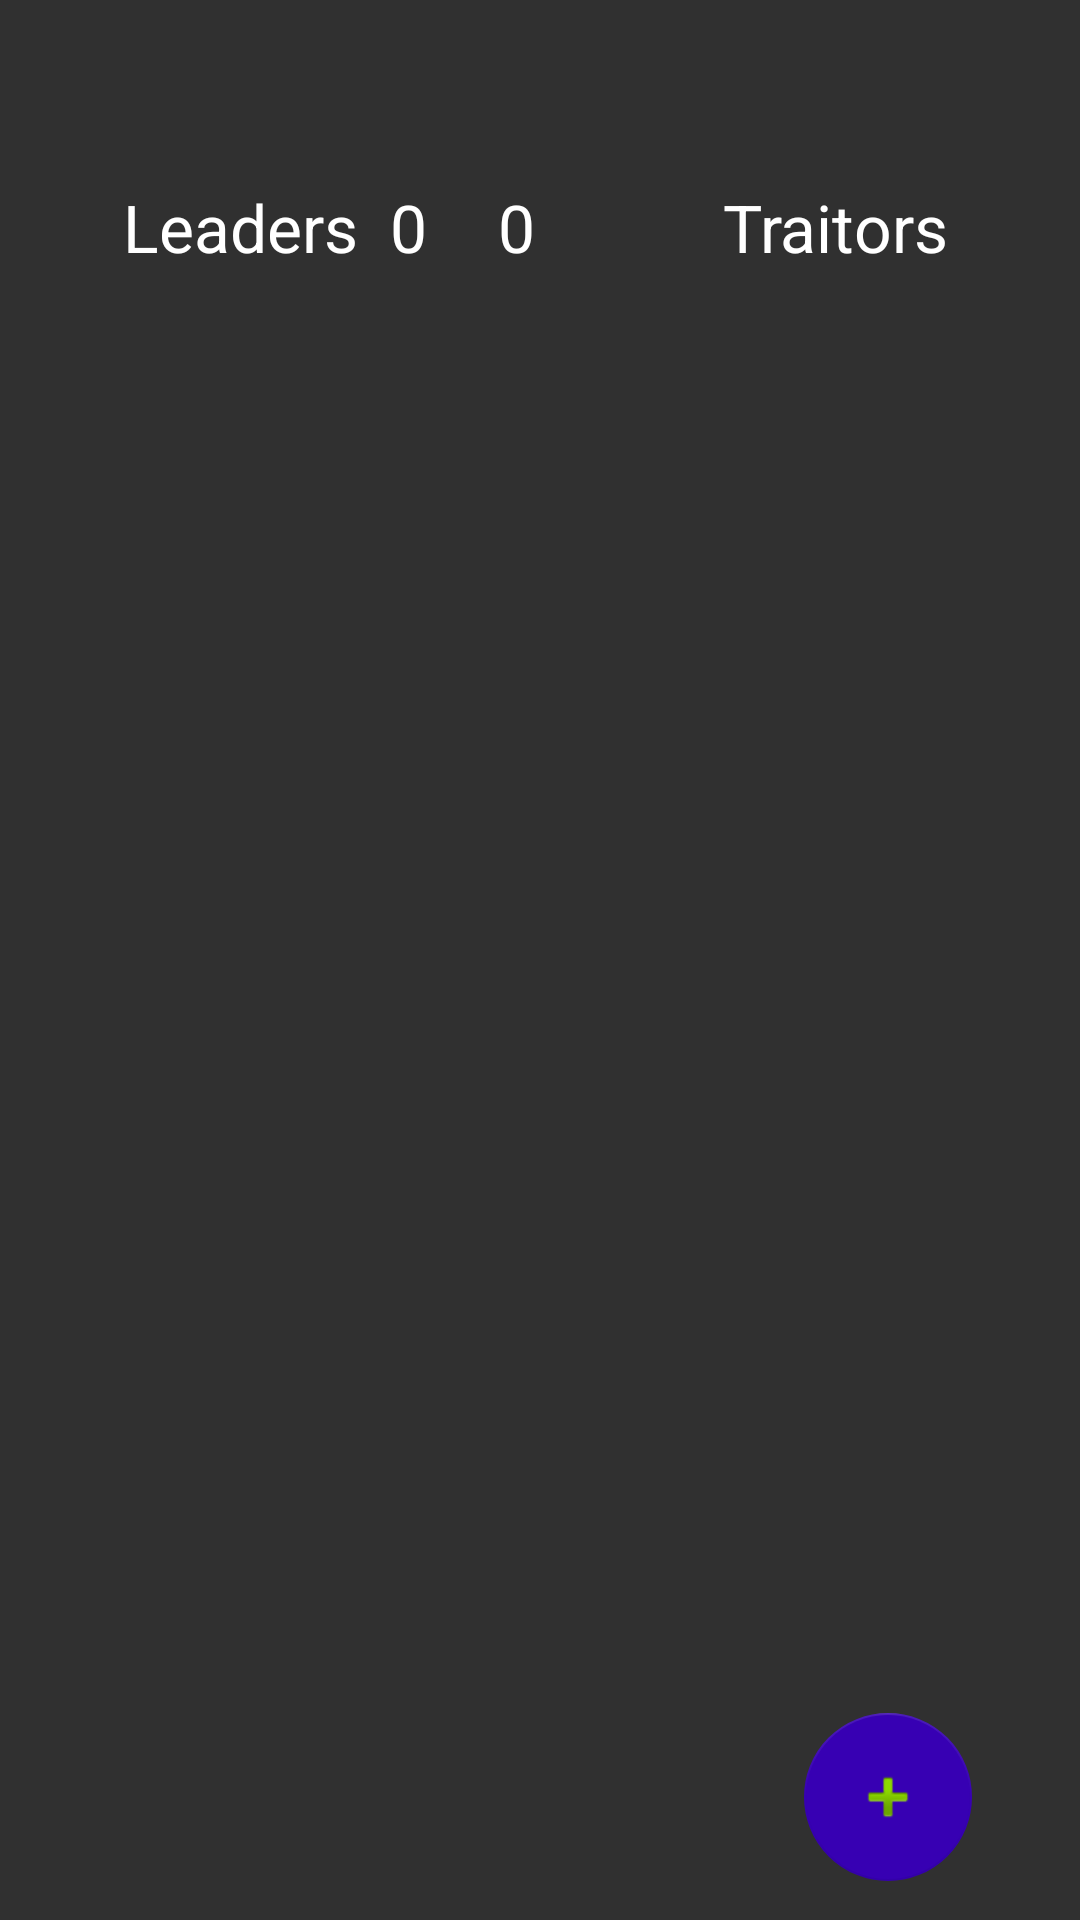

Screen size 1080 x 1920. Icon name, then its center in pixels as (x,y):
add: (888,1797)
